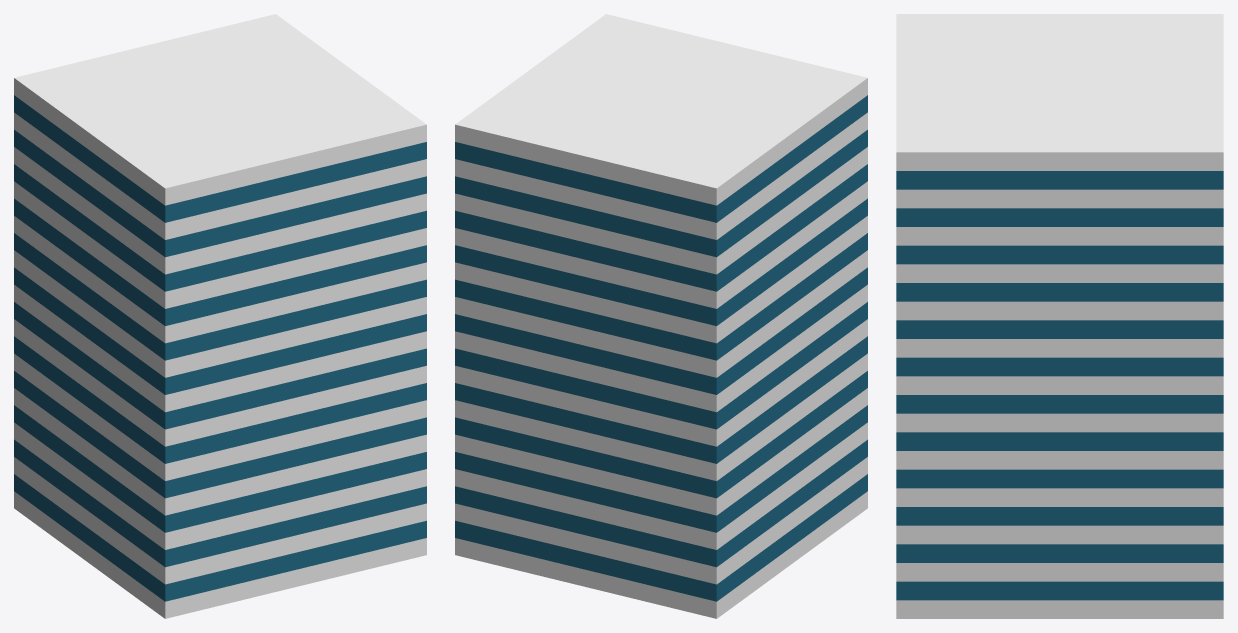
File: officeBuilding.fbx
3 renders of one model, left to right at view 1: azimuth 30°, elevation 25°; view 2: azimuth 150°, elevation 25°; view 3: azimuth 270°, elevation 25°, orthographic. The views are drawn at different scales.
Visible parts, largest first — view 1: pCube3; view 2: pCube3; view 3: pCube3.
Boxes of the visible parts, x1,y1,x2,y2 form: pCube3: (14, 14, 426, 618); pCube3: (455, 14, 867, 618); pCube3: (896, 14, 1223, 618).
Size of the model in its own units: 1 by 1.57 by 1.
